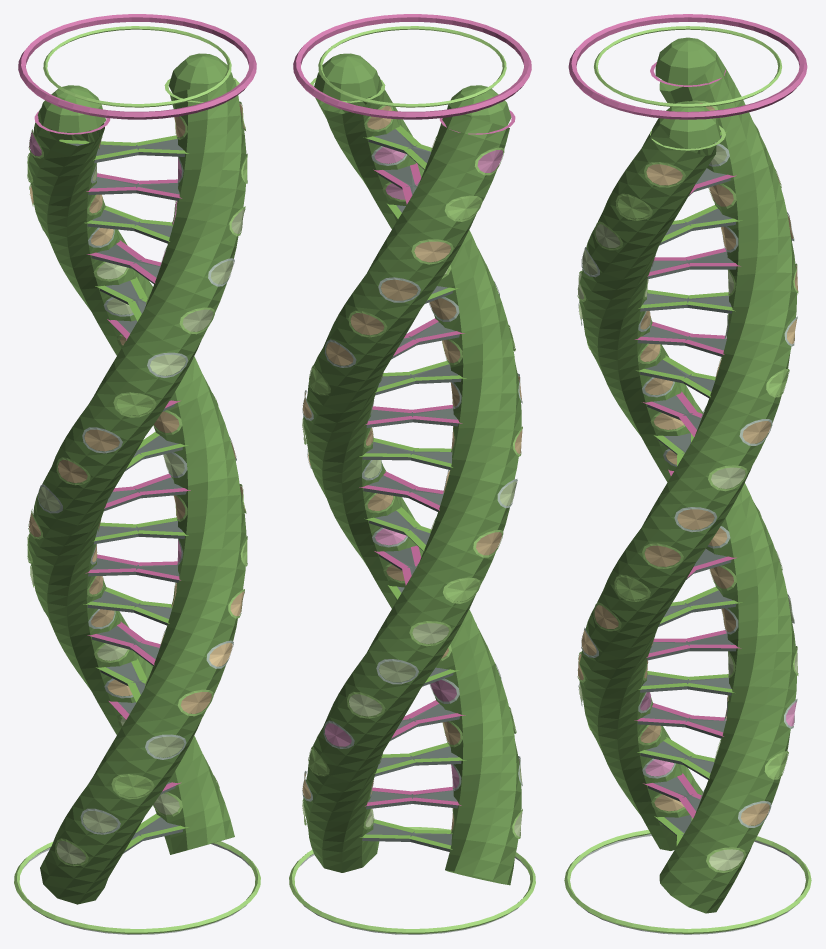
Rendered from solace_hq.glb.
3 views of the same model, side by side, from view 1: azimuth 30°, elevation 25°; view 2: azimuth 150°, elevation 25°; view 3: azimuth 270°, elevation 25° (orthographic).
Parts seen in each view (by area): view 1: solace_hq__neon, solace_hq__solid, solace_hq__win; view 2: solace_hq__neon, solace_hq__solid, solace_hq__win; view 3: solace_hq__neon, solace_hq__solid, solace_hq__win.
Boxes of the visible parts, bbox=[...] form: solace_hq__neon: bbox=[14, 14, 260, 933]; solace_hq__solid: bbox=[23, 139, 252, 934]; solace_hq__win: bbox=[29, 104, 245, 863]; solace_hq__neon: bbox=[289, 14, 535, 933]; solace_hq__solid: bbox=[297, 129, 526, 934]; solace_hq__win: bbox=[302, 106, 522, 836]; solace_hq__neon: bbox=[564, 14, 811, 933]; solace_hq__solid: bbox=[573, 135, 802, 934]; solace_hq__win: bbox=[578, 103, 797, 870].
Size of what is drawn, in the model's own units: 24.66 by 90.36 by 24.66.
